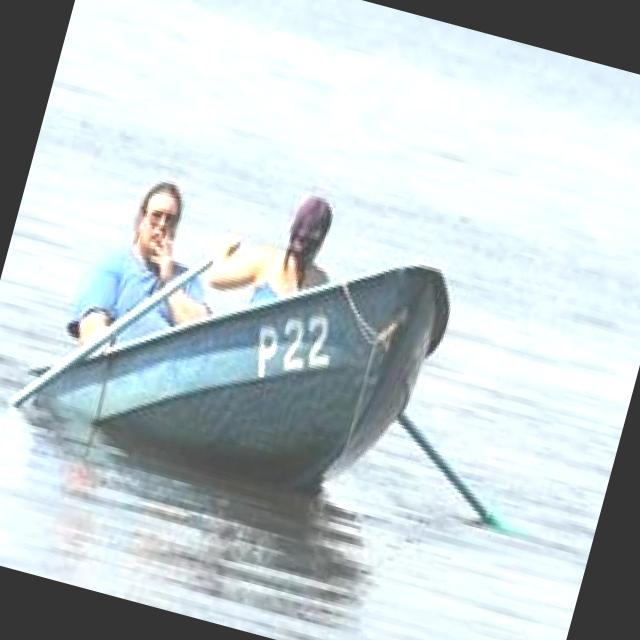no_vest: (58, 218, 224, 360), (250, 235, 332, 307)
